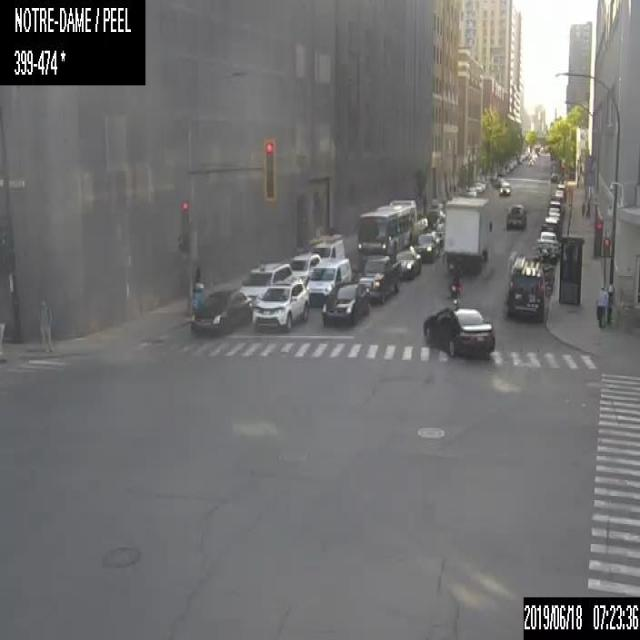bus: (356, 198, 416, 256)
pedestrian: (37, 290, 51, 350), (594, 284, 606, 328), (580, 198, 585, 217), (195, 264, 200, 283), (585, 198, 590, 216)
vehicle: (443, 196, 491, 276), (422, 305, 494, 357), (191, 287, 252, 336), (252, 278, 307, 332), (505, 250, 545, 321), (352, 255, 401, 303), (321, 283, 370, 329), (239, 260, 291, 303), (306, 256, 351, 304), (310, 232, 344, 264), (413, 232, 441, 263), (290, 251, 320, 278), (394, 250, 422, 278), (448, 260, 464, 306), (506, 203, 526, 228), (537, 230, 557, 244), (539, 244, 560, 257), (544, 216, 561, 232), (541, 224, 559, 238), (535, 252, 556, 263), (554, 183, 566, 200), (416, 216, 428, 231), (436, 221, 444, 241), (499, 180, 510, 194), (549, 200, 561, 212), (428, 202, 439, 215), (471, 180, 482, 192), (553, 189, 564, 201), (547, 210, 560, 220), (550, 172, 559, 182), (465, 188, 476, 196), (528, 157, 536, 166), (479, 180, 485, 188)
